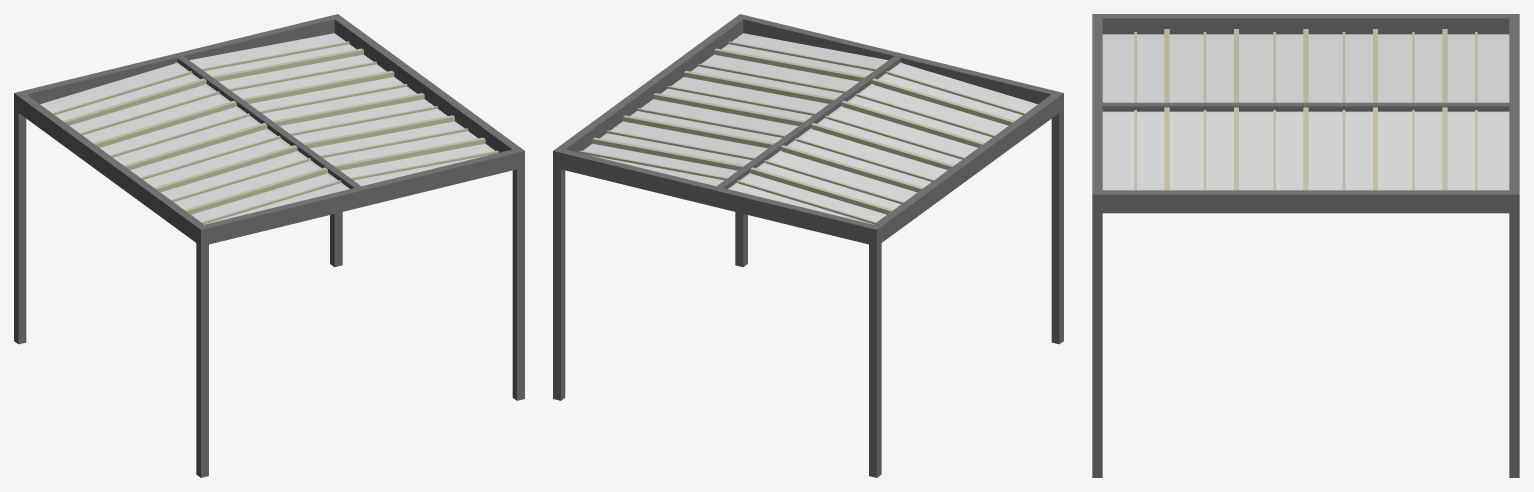
File: hyr-double_h30-w40-l40_matlightgrey.fbx
The picture shows the model from 3 angles, left to right: view 1: azimuth 30°, elevation 25°; view 2: azimuth 150°, elevation 25°; view 3: azimuth 270°, elevation 25°; orthographic projection. The views are drawn at different scales.
Visible parts, largest first — view 1: hyr-double_h30-w40-l40_mat-r-grey; view 2: hyr-double_h30-w40-l40_mat-r-grey; view 3: hyr-double_h30-w40-l40_mat-r-grey.
Part boxes in pixels (x1,y1,x2,y2): hyr-double_h30-w40-l40_mat-r-grey: (14,14,524,477); hyr-double_h30-w40-l40_mat-r-grey: (553,14,1063,477); hyr-double_h30-w40-l40_mat-r-grey: (1092,14,1519,477).
Bounding box in the file's own units: 410 × 300 × 410.
Materials: 3 (2 with a texture image).
